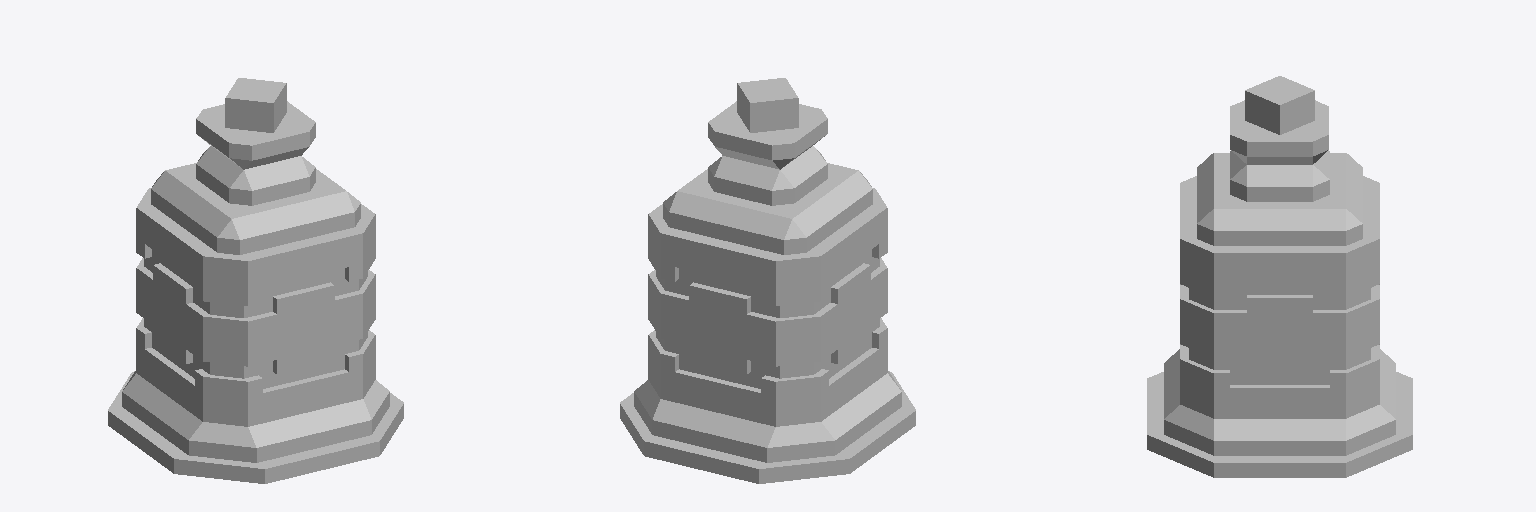
The model's file is variegator_body.obj.
3 renders of one model, left to right at view 1: azimuth 30°, elevation 25°; view 2: azimuth 150°, elevation 25°; view 3: azimuth 270°, elevation 25°, orthographic.
Parts seen in each view (by area): view 1: VARIAGATOR_BODY_Cube.068; view 2: VARIAGATOR_BODY_Cube.068; view 3: VARIAGATOR_BODY_Cube.068.
Part boxes in pixels (bbox=[...]): VARIAGATOR_BODY_Cube.068: bbox=[108, 78, 403, 483]; VARIAGATOR_BODY_Cube.068: bbox=[620, 78, 915, 483]; VARIAGATOR_BODY_Cube.068: bbox=[1147, 76, 1412, 477].
Size of the model in its own units: 1 by 1.38 by 1.